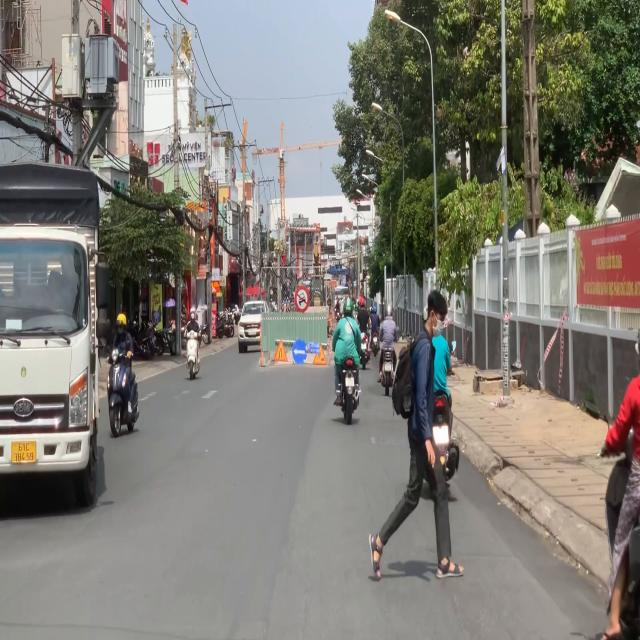Cam con lai: (294, 285, 310, 313)
Nguy hiem: (312, 343, 328, 366), (274, 338, 288, 363)
Re trai: (292, 338, 307, 364)
